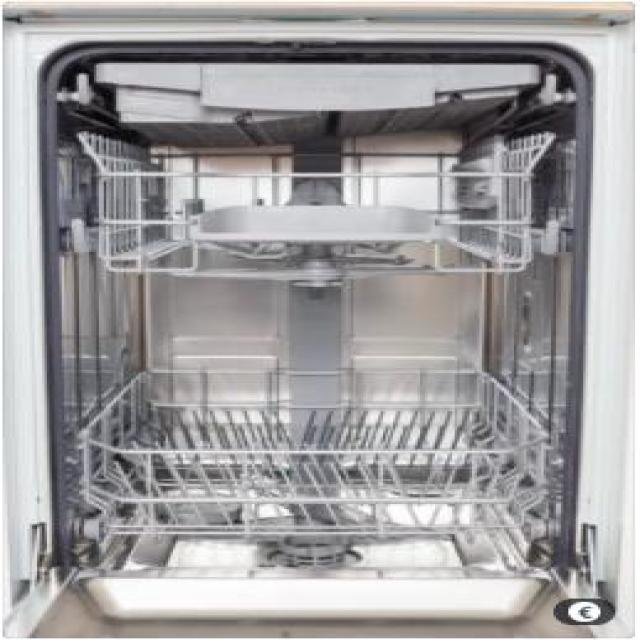dishwasher: (2, 0, 637, 638)
